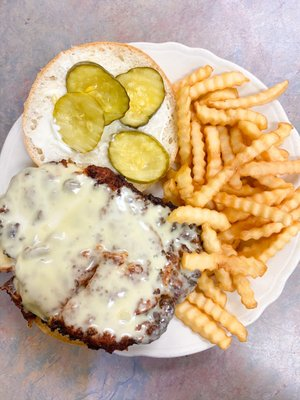sandwich: (1, 35, 300, 364)
